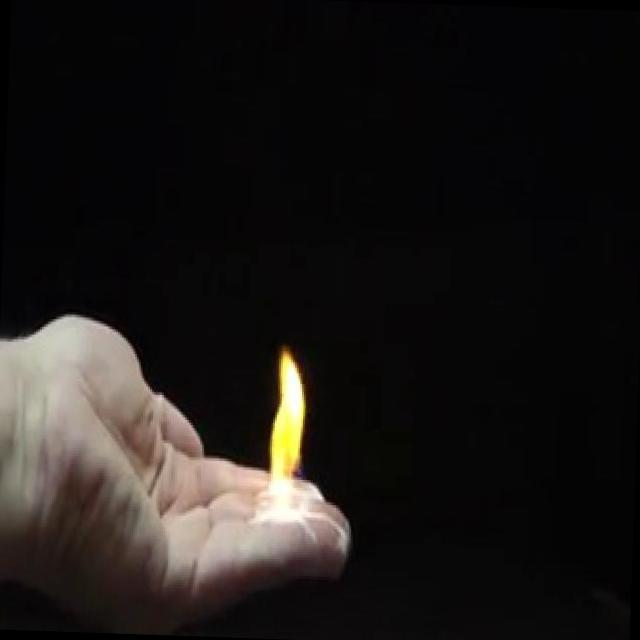Fire: (252, 344, 317, 518)
